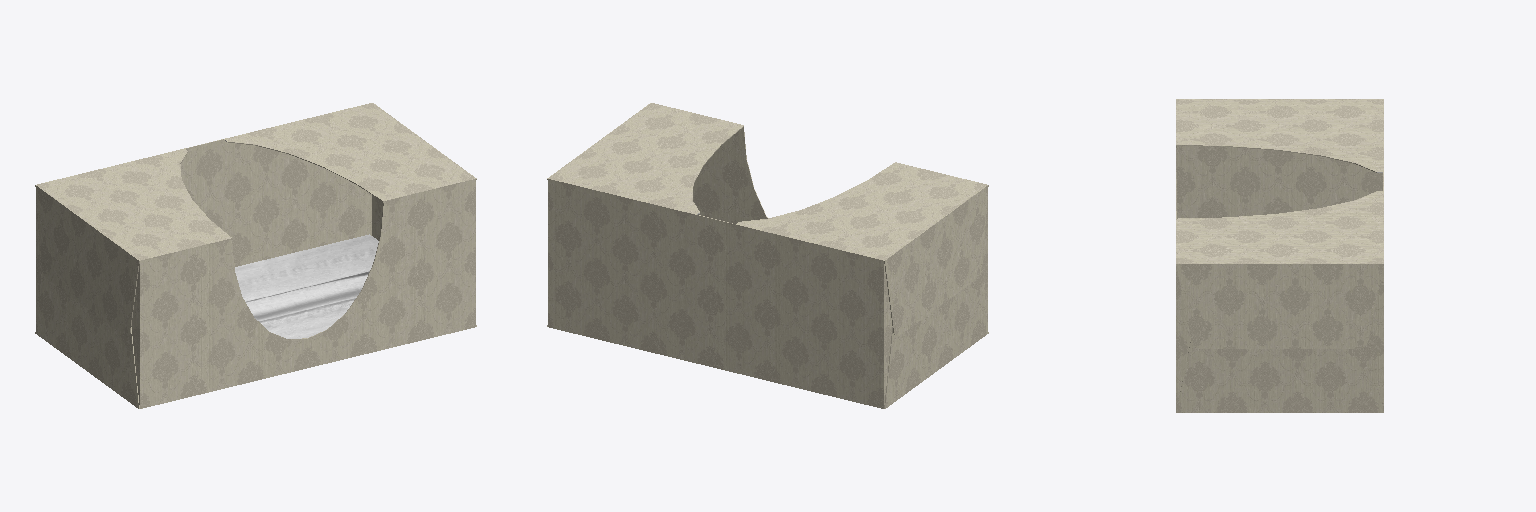
The picture shows the model from 3 angles: view 1: azimuth 30°, elevation 25°; view 2: azimuth 150°, elevation 25°; view 3: azimuth 270°, elevation 25°; orthographic projection.
Visible parts, largest first — view 1: Mesh6 Group1 Model, Mesh5 Group7 Group1 Model, Mesh3 Group5 Group4 Group1 Model, Mesh4 Group6 Group4 Group1 Model; view 2: Mesh6 Group1 Model, Mesh3 Group5 Group4 Group1 Model, Mesh4 Group6 Group4 Group1 Model; view 3: Mesh6 Group1 Model, Mesh1 Group2 Group1 Model, Mesh2 Group3 Group1 Model.
Boxes of the visible parts, <box> form: Mesh6 Group1 Model: <box>36,103,475,408</box>; Mesh5 Group7 Group1 Model: <box>235,234,378,338</box>; Mesh3 Group5 Group4 Group1 Model: <box>35,185,139,336</box>; Mesh4 Group6 Group4 Group1 Model: <box>35,272,139,408</box>; Mesh6 Group1 Model: <box>548,103,987,408</box>; Mesh3 Group5 Group4 Group1 Model: <box>884,185,988,336</box>; Mesh4 Group6 Group4 Group1 Model: <box>884,272,988,408</box>; Mesh6 Group1 Model: <box>1176,100,1383,410</box>; Mesh1 Group2 Group1 Model: <box>1176,264,1383,348</box>; Mesh2 Group3 Group1 Model: <box>1176,340,1383,412</box>.
Bounding box in the file's own units: 9 × 3.75 × 4.75.
3 materials, 2 textured.